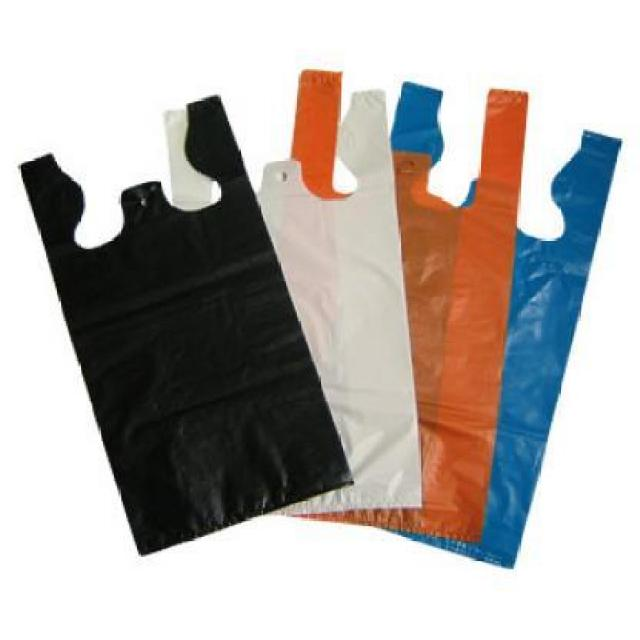plastic bag: (16, 60, 626, 572)
